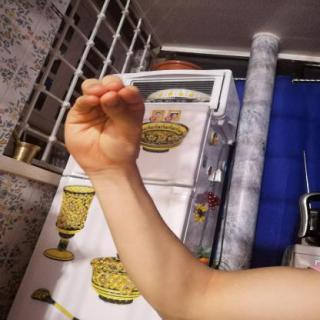HA: (50, 70, 157, 179)
